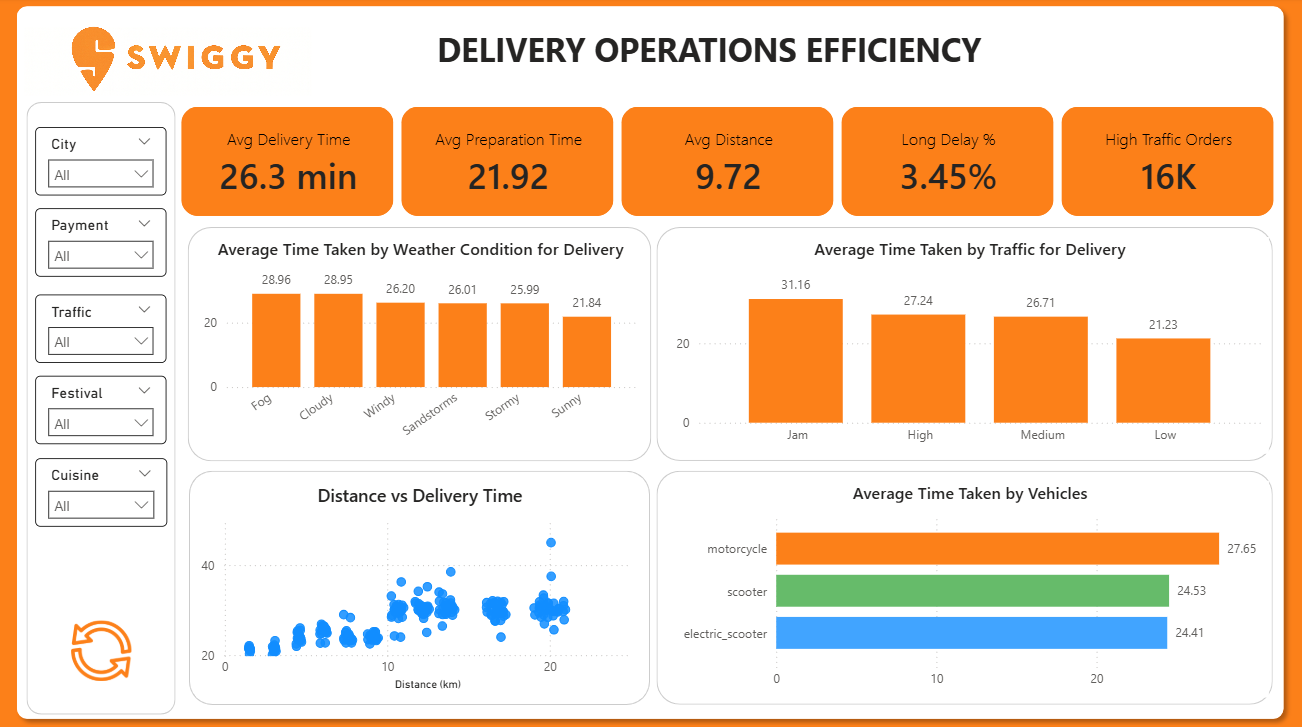

Layout of this report page (visuals, bound fields, positions):
{"tool":"powerbi","page":{"name":"Delivery Operations Efficiency","canvas":[1280,720],"ordinal":1},"visuals":[{"type":"shape","box":[8.8,0,1261.2,717.5],"z":0},{"type":"shape","box":[27.5,102.5,146.2,601.2],"z":0,"group":"g5"},{"type":"shape","box":[185,226.2,455,230],"z":0,"group":"g1"},{"type":"shape","box":[645,226.2,605,229.7],"z":0,"group":"g2"},{"type":"shape","box":[186.2,465,452.5,230],"z":0,"group":"g4"},{"type":"shape","box":[645,465,605,229.7],"z":0,"group":"g3"},{"type":"image","box":[19.6,24.5,292,77.3],"z":1000},{"type":"slicer","fields":{"Values":["swiggy_cleaned_data.City"]},"box":[36.3,127.5,129,67.5],"z":1000,"group":"g5"},{"type":"clusteredColumnChart","title":"Average Time Taken by Weather Condition for Delivery","fields":{"Category":["swiggy_cleaned_data.Weather_conditions"],"Y":["Avg(swiggy_cleaned_data.Time_taken (min))"]},"box":[196.6,235.9,435.5,212.5],"z":1000,"group":"g1"},{"type":"clusteredColumnChart","title":"Average Time Taken by Traffic for Delivery","fields":{"Y":["Avg(swiggy_cleaned_data.Time_taken (min))"],"Category":["swiggy_cleaned_data.Road_traffic_density"]},"box":[660,235.9,586.2,212.5],"z":1000,"group":"g2"},{"type":"barChart","title":"Average Time Taken by Vehicles","fields":{"Category":["swiggy_cleaned_data.Type_of_vehicle"],"Y":["Avg(swiggy_cleaned_data.Time_taken (min))"]},"box":[660,474.7,586.2,212.5],"z":1000,"group":"g3"},{"type":"scatterChart","title":"Distance vs Delivery Time","fields":{"X":["swiggy_cleaned_data.Distance_km"],"Y":["Avg(swiggy_cleaned_data.Time_taken (min))"]},"box":[193.6,477.5,438.6,208.8],"z":1000,"group":"g4"},{"type":"textbox","box":[311.7,24.5,770.6,54],"z":2000},{"type":"slicer","fields":{"Values":["swiggy_cleaned_data.Payment_Method"]},"box":[36.3,206.3,129,67.5],"z":2000,"group":"g5"},{"type":"cardVisual","fields":{"Data":["swiggy_cleaned_data.average_delivery_time","swiggy_cleaned_data.Avg_preparation_time","swiggy_cleaned_data.Avg_distance","swiggy_cleaned_data.Long Delay %","swiggy_cleaned_data.High Traffic Orders"]},"box":[173.8,102.5,1083.8,117.5],"z":3000},{"type":"slicer","fields":{"Values":["swiggy_cleaned_data.Road_traffic_density"]},"box":[36.3,291.3,129,67.5],"z":3000,"group":"g5"},{"type":"group","id":"g1","title":"Avg time by weather","box":[185,226.2,455,230],"z":4000},{"type":"slicer","fields":{"Values":["swiggy_cleaned_data.Festival"]},"box":[36.3,371.3,129,67.5],"z":4000,"group":"g5"},{"type":"group","id":"g2","title":"Avg time by traffic","box":[645,226.2,605,229.7],"z":5000},{"type":"image","box":[36.3,606.3,130,68.8],"z":5000,"group":"g5"},{"type":"slicer","fields":{"Values":["swiggy_cleaned_data.Cuisine"]},"box":[36.7,452,129.3,67.3],"z":6000,"group":"g5"},{"type":"group","id":"g3","title":"Avg time by traffic","box":[645,465,605,230],"z":6000},{"type":"group","id":"g4","title":"distancve vs delivery","box":[186.2,465,452.5,230],"z":7000},{"type":"group","id":"g5","title":"Slicers","box":[27.5,102.5,146.2,601.2],"z":8000}]}

Visuals, with their boxes in screenshot pixels (x1, y1, x2, y2), scaled from the page's 1280x720 canvas onto the 1302x727 screenshot:
shape: pyautogui.locateOnScreen(9, 0, 1292, 724)
shape: pyautogui.locateOnScreen(28, 103, 177, 711)
shape: pyautogui.locateOnScreen(188, 228, 651, 461)
shape: pyautogui.locateOnScreen(656, 228, 1271, 460)
shape: pyautogui.locateOnScreen(189, 470, 650, 702)
shape: pyautogui.locateOnScreen(656, 470, 1271, 701)
image: pyautogui.locateOnScreen(20, 25, 317, 103)
slicer - swiggy_cleaned_data.City: pyautogui.locateOnScreen(37, 129, 168, 197)
"Average Time Taken by Weather Condition for Delivery" clusteredColumnChart: pyautogui.locateOnScreen(200, 238, 643, 453)
"Average Time Taken by Traffic for Delivery" clusteredColumnChart: pyautogui.locateOnScreen(671, 238, 1268, 453)
"Average Time Taken by Vehicles" barChart: pyautogui.locateOnScreen(671, 479, 1268, 694)
"Distance vs Delivery Time" scatterChart: pyautogui.locateOnScreen(197, 482, 643, 693)
textbox: pyautogui.locateOnScreen(317, 25, 1101, 79)
slicer - swiggy_cleaned_data.Payment_Method: pyautogui.locateOnScreen(37, 208, 168, 276)
cardVisual - swiggy_cleaned_data.average_delivery_time x swiggy_cleaned_data.Avg_preparation_time: pyautogui.locateOnScreen(177, 103, 1279, 222)
slicer - swiggy_cleaned_data.Road_traffic_density: pyautogui.locateOnScreen(37, 294, 168, 362)
"Avg time by weather" group: pyautogui.locateOnScreen(188, 228, 651, 461)
slicer - swiggy_cleaned_data.Festival: pyautogui.locateOnScreen(37, 375, 168, 443)
"Avg time by traffic" group: pyautogui.locateOnScreen(656, 228, 1271, 460)
image: pyautogui.locateOnScreen(37, 612, 169, 682)
slicer - swiggy_cleaned_data.Cuisine: pyautogui.locateOnScreen(37, 456, 169, 524)
"Avg time by traffic" group: pyautogui.locateOnScreen(656, 470, 1271, 702)
"distancve vs delivery" group: pyautogui.locateOnScreen(189, 470, 650, 702)
"Slicers" group: pyautogui.locateOnScreen(28, 103, 177, 711)
